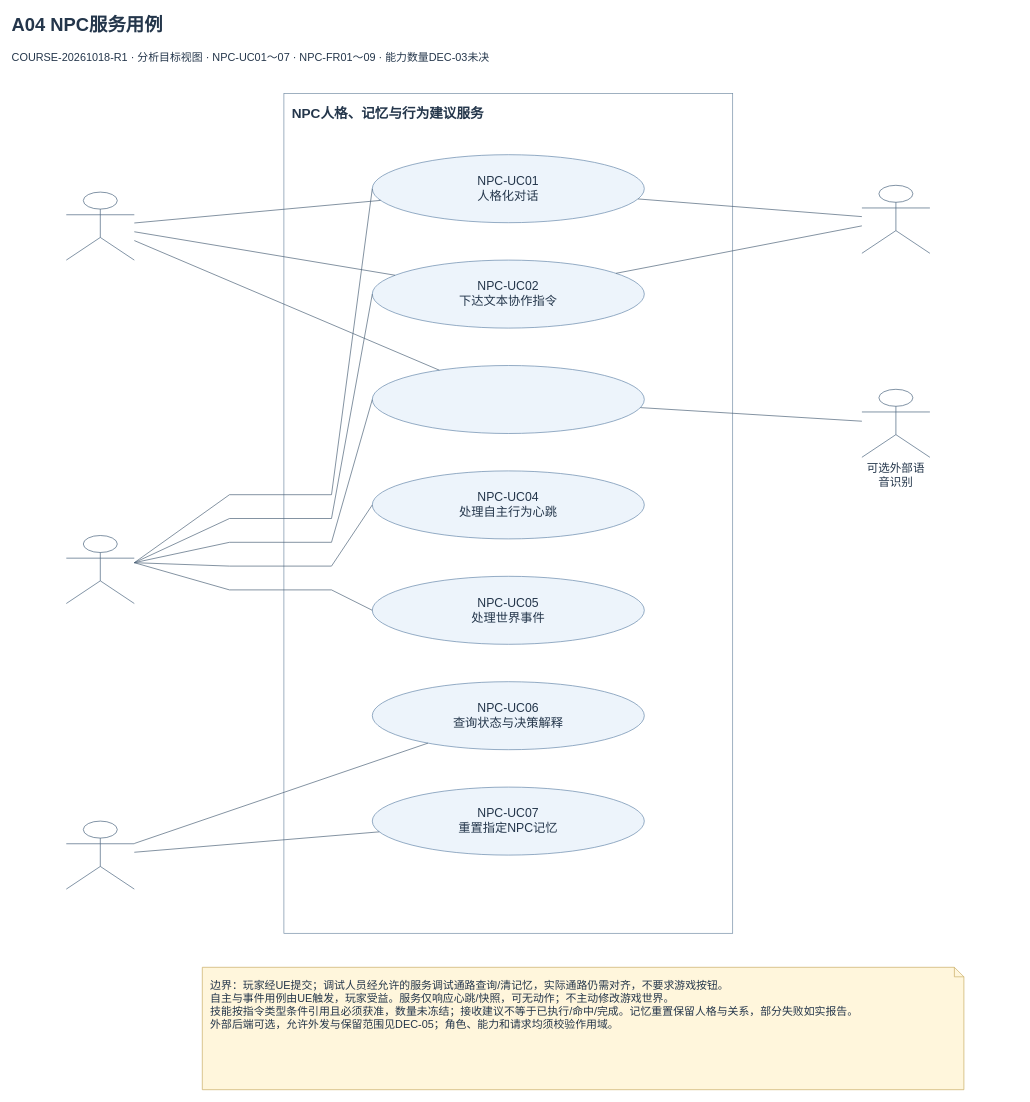
This 1030x1102 diagram has some shape labels left out. Each missing label, with the centre of its shape:
"NPC-UC03 使用语音协作入口" belongs at (x=508, y=399).
"UE游戏客户端 世界执行权威" belongs at (x=100, y=569).
"可选大模型服务" belongs at (x=895, y=219).
"开发 / 服务调试人员" belongs at (x=100, y=854).
"玩家 经UE客户端" belongs at (x=100, y=225).
